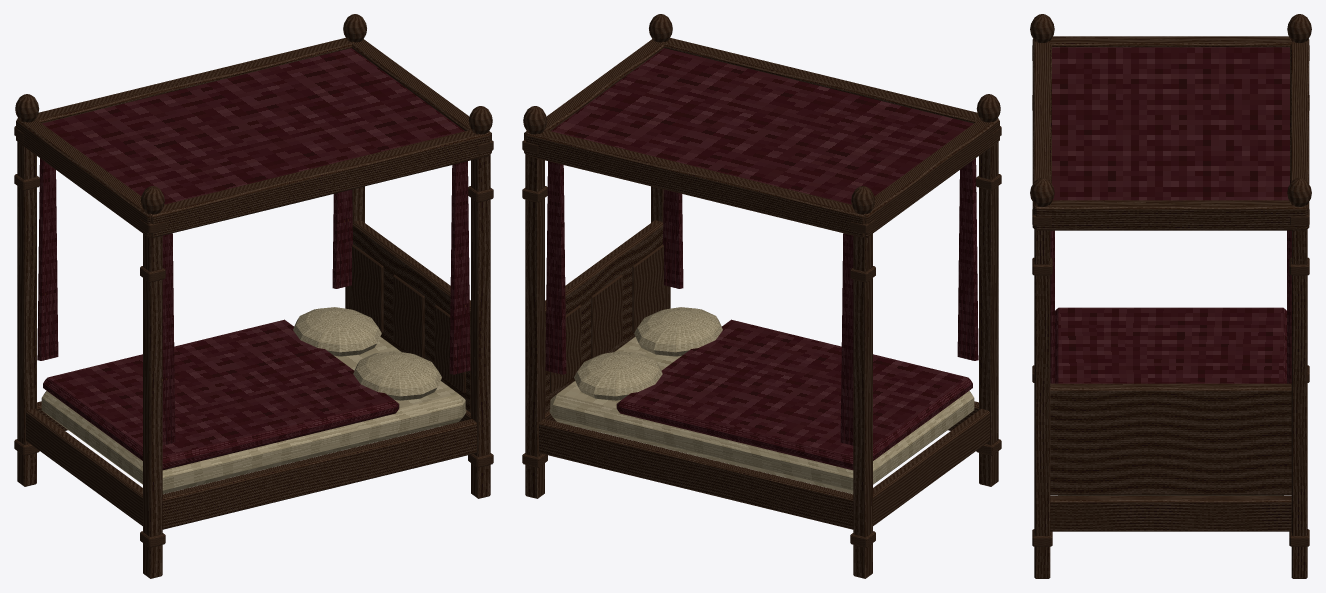
File: level_castle_four_poster_bed.glb
The picture shows the model from 3 angles, left to right: view 1: azimuth 30°, elevation 25°; view 2: azimuth 150°, elevation 25°; view 3: azimuth 270°, elevation 25°; orthographic projection. The views are drawn at different scales.
Parts seen in each view (by area): view 1: Canopy fabric roof, Burgundy coverlet, Side rail, Linen mattress, Canopy side cornice, Square carved bed post, Square carved bed post.002, Square carved bed post.001, Carved headboard, End rail, Canopy end cornice, Canopy side cornice.001 (+19 smaller); view 2: Canopy fabric roof, Burgundy coverlet, Side rail.001, Linen mattress, Canopy side cornice.001, Square carved bed post.001, Square carved bed post.003, Square carved bed post, Carved headboard, End rail, Canopy end cornice, Canopy side cornice (+19 smaller); view 3: Canopy fabric roof, Carved headboard, Burgundy coverlet, End rail.001, Canopy end cornice.001, Square carved bed post.002, Square carved bed post.003, Canopy end cornice, Canopy side cornice.001, Canopy side cornice, Gathered curtain fold.011, Gathered curtain fold.015 (+4 smaller).
Boxes of the visible parts, x1=… form: Canopy fabric roof: x1=42, y1=48, x2=464, y2=204; Burgundy coverlet: x1=43, y1=319, x2=399, y2=470; Side rail: x1=162, y1=419, x2=476, y2=529; Linen mattress: x1=41, y1=337, x2=466, y2=493; Canopy side cornice: x1=151, y1=129, x2=490, y2=237; Square carved bed post: x1=143, y1=210, x2=162, y2=578; Square carved bed post.002: x1=471, y1=130, x2=490, y2=498; Square carved bed post.001: x1=17, y1=118, x2=36, y2=486; Carved headboard: x1=351, y1=220, x2=470, y2=412; End rail: x1=26, y1=409, x2=142, y2=525; Canopy end cornice: x1=16, y1=118, x2=150, y2=237; Canopy side cornice.001: x1=36, y1=37, x2=352, y2=123; Canopy fabric roof: x1=551, y1=48, x2=973, y2=204; Burgundy coverlet: x1=616, y1=319, x2=972, y2=470; Side rail.001: x1=539, y1=419, x2=853, y2=529; Linen mattress: x1=549, y1=337, x2=974, y2=493; Canopy side cornice.001: x1=525, y1=129, x2=864, y2=237; Square carved bed post.001: x1=853, y1=210, x2=872, y2=578; Square carved bed post.003: x1=525, y1=130, x2=544, y2=498; Square carved bed post: x1=979, y1=118, x2=998, y2=486; Carved headboard: x1=545, y1=220, x2=664, y2=412; End rail: x1=873, y1=409, x2=989, y2=525; Canopy end cornice: x1=865, y1=118, x2=999, y2=237; Canopy side cornice: x1=663, y1=37, x2=979, y2=123; Canopy fabric roof: x1=1052, y1=47, x2=1289, y2=200; Carved headboard: x1=1050, y1=383, x2=1291, y2=495; Burgundy coverlet: x1=1055, y1=307, x2=1286, y2=383; End rail.001: x1=1050, y1=496, x2=1291, y2=531; Canopy end cornice.001: x1=1034, y1=200, x2=1307, y2=230; Square carved bed post.002: x1=1034, y1=205, x2=1050, y2=578; Square carved bed post.003: x1=1291, y1=205, x2=1307, y2=578; Canopy end cornice: x1=1037, y1=36, x2=1304, y2=47; Canopy side cornice.001: x1=1290, y1=39, x2=1309, y2=228; Canopy side cornice: x1=1032, y1=39, x2=1051, y2=228; Gathered curtain fold.011: x1=1050, y1=230, x2=1054, y2=383; Gathered curtain fold.015: x1=1287, y1=230, x2=1291, y2=383.
Bounding box in the file's own units: 2.34 × 2.49 × 1.6.
Materials: 4 (4 with a texture image).
